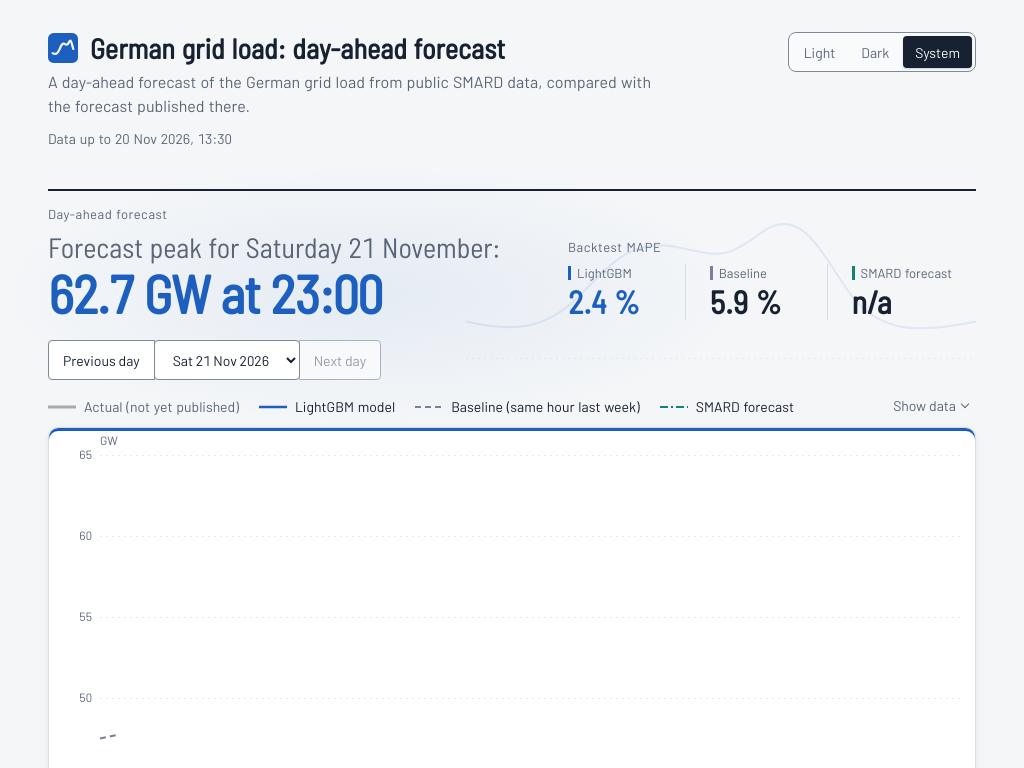
Scenario: Dashboard with data › handles the 25 and 23 hour clock-change days
Select "Sun 25 Oct 2026" in the dropdown named "Delivery day" at {"x": 227, "y": 360}, box x1=154 y1=340 x2=300 y2=380
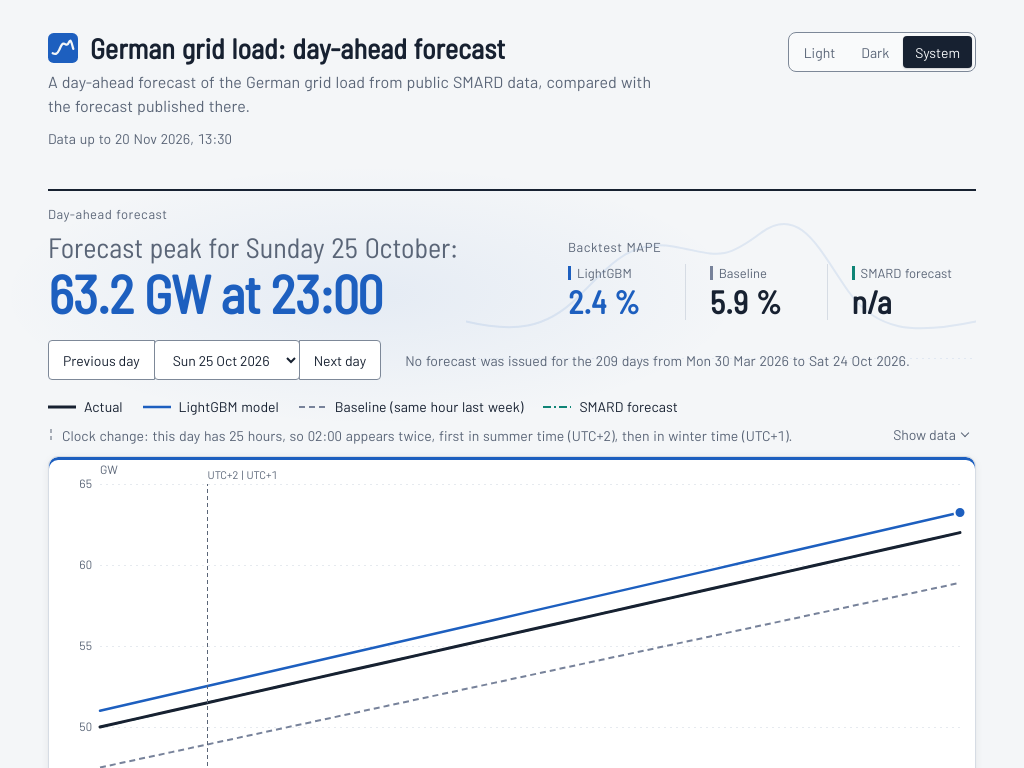
Now the text "02:00 appears twice" shows "25 hours", box x1=48 y1=425 x2=864 y2=446
Select "Sun 29 Mar 2026" in the dropdown named "Delivery day" at {"x": 227, "y": 360}, box x1=154 y1=340 x2=300 y2=380
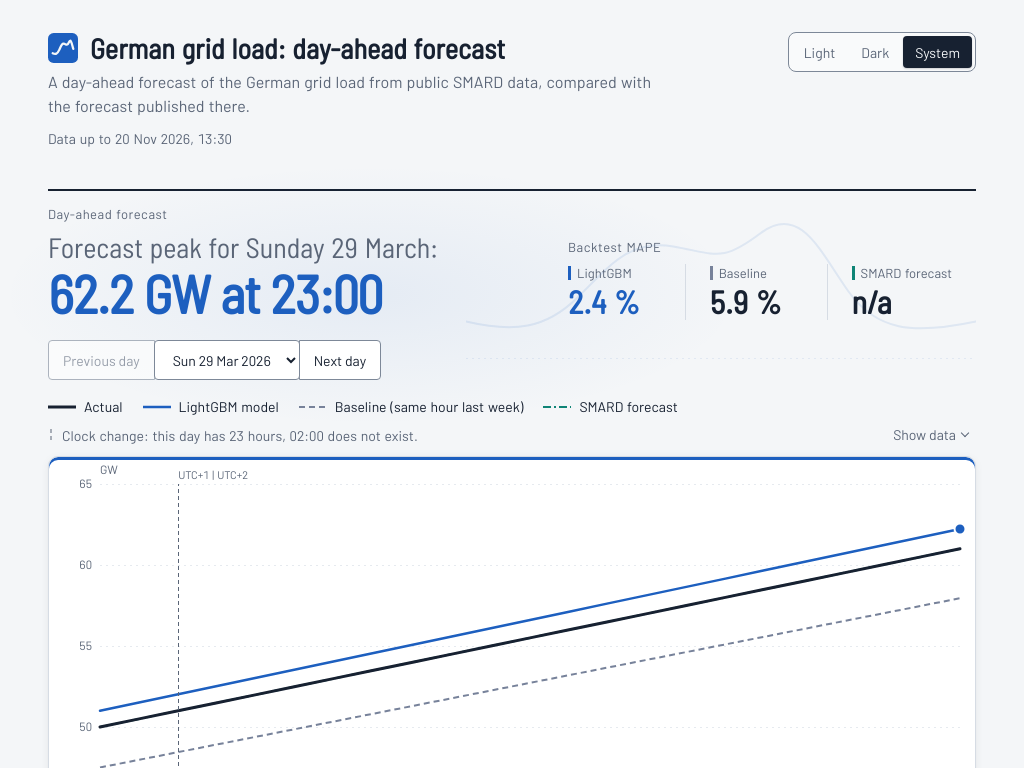
Now the text "Clock change: this day has 23 hours, 02:00 does not exist." is shown, box x1=48 y1=427 x2=418 y2=444
Now the button "Previous day" is disabled, box x1=48 y1=340 x2=155 y2=380
